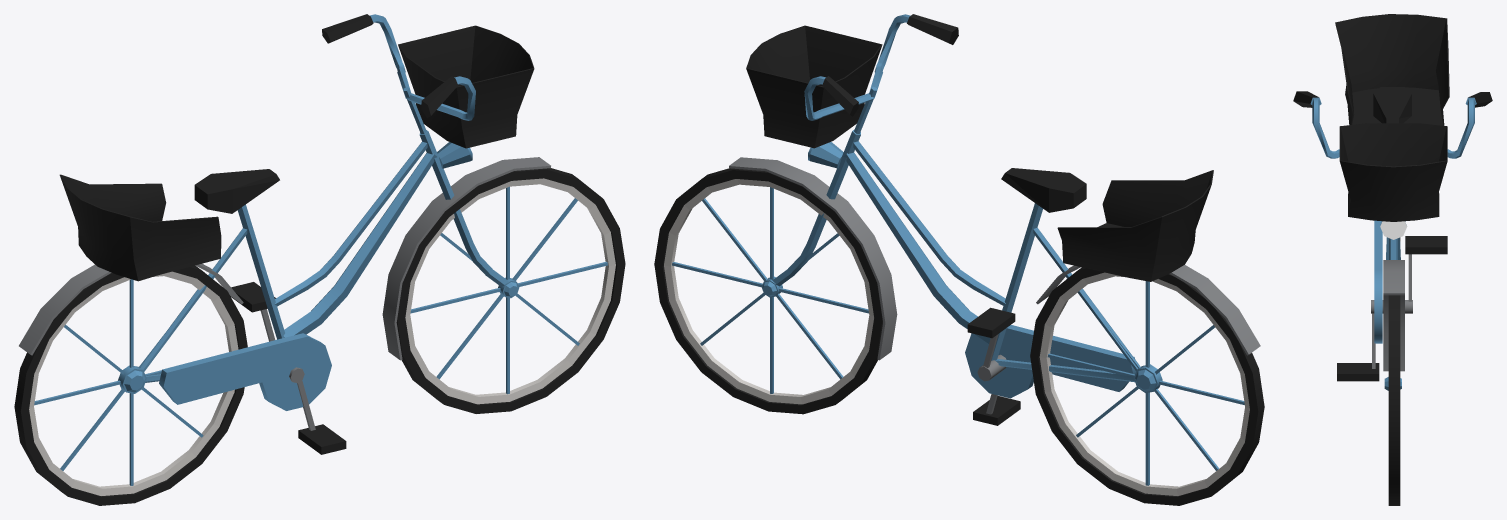
File: SM_citybike_blue.fbx
3 views of the same model, side by side, from view 1: azimuth 30°, elevation 25°; view 2: azimuth 150°, elevation 25°; view 3: azimuth 270°, elevation 25° (orthographic). The views are drawn at different scales.
Visible parts, largest first — view 1: Box112; view 2: Box112; view 3: Box112.
Boxes of the visible parts, bbox=[...] form: Box112: bbox=[14, 14, 625, 505]; Box112: bbox=[654, 14, 1264, 505]; Box112: bbox=[1293, 14, 1492, 505].
Size of the model in its own units: 101 by 31.54 by 61.8.
